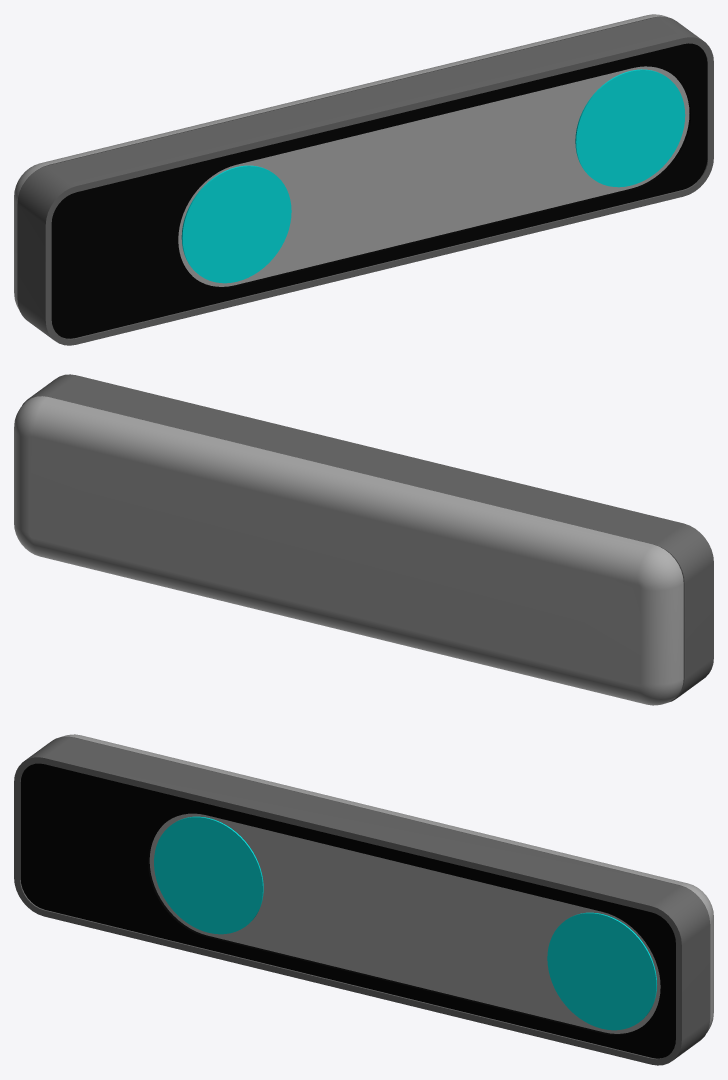
3 renders of one model, top to bottom at view 1: azimuth 30°, elevation 25°; view 2: azimuth 150°, elevation 25°; view 3: azimuth 330°, elevation 25°, orthographic.
Visible parts, largest first — view 1: T267; view 2: T267; view 3: T267.
Part boxes in pixels (x1,y1,x2,y2): T267: (14,14,713,345); T267: (14,374,713,705); T267: (14,734,713,1065).
Size of the model in its own units: 0.108 by 0.0245 by 0.0125.
